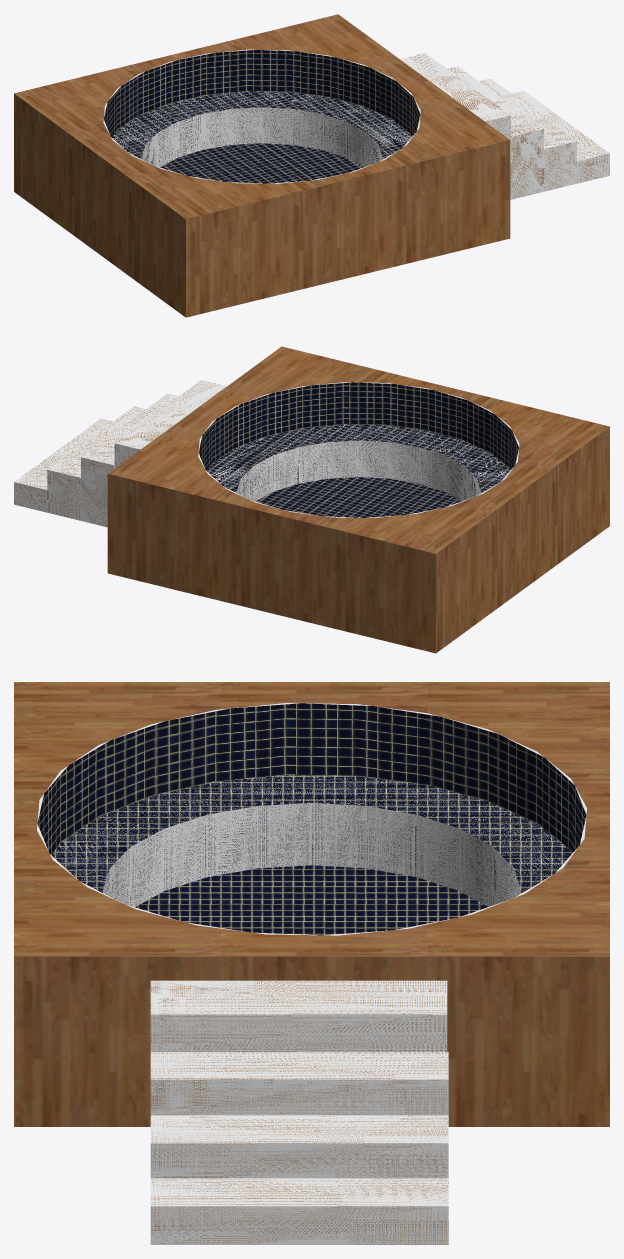
The model's file is hot_tub.dae.
The picture shows the model from 3 angles, top to bottom: view 1: azimuth 30°, elevation 25°; view 2: azimuth 150°, elevation 25°; view 3: azimuth 270°, elevation 25°; orthographic projection. The views are drawn at different scales.
Visible parts, largest first — view 1: SketchUp (×6); view 2: SketchUp (×6); view 3: SketchUp (×5).
Part boxes in pixels (left/top/right/bottom): SketchUp (×6): left=14, top=14, right=609, bottom=317; SketchUp (×6): left=14, top=346, right=609, bottom=653; SketchUp (×5): left=14, top=682, right=609, bottom=1244.
Size of the model in its own units: 269 by 173 by 54.62.
4 materials, 3 textured.
